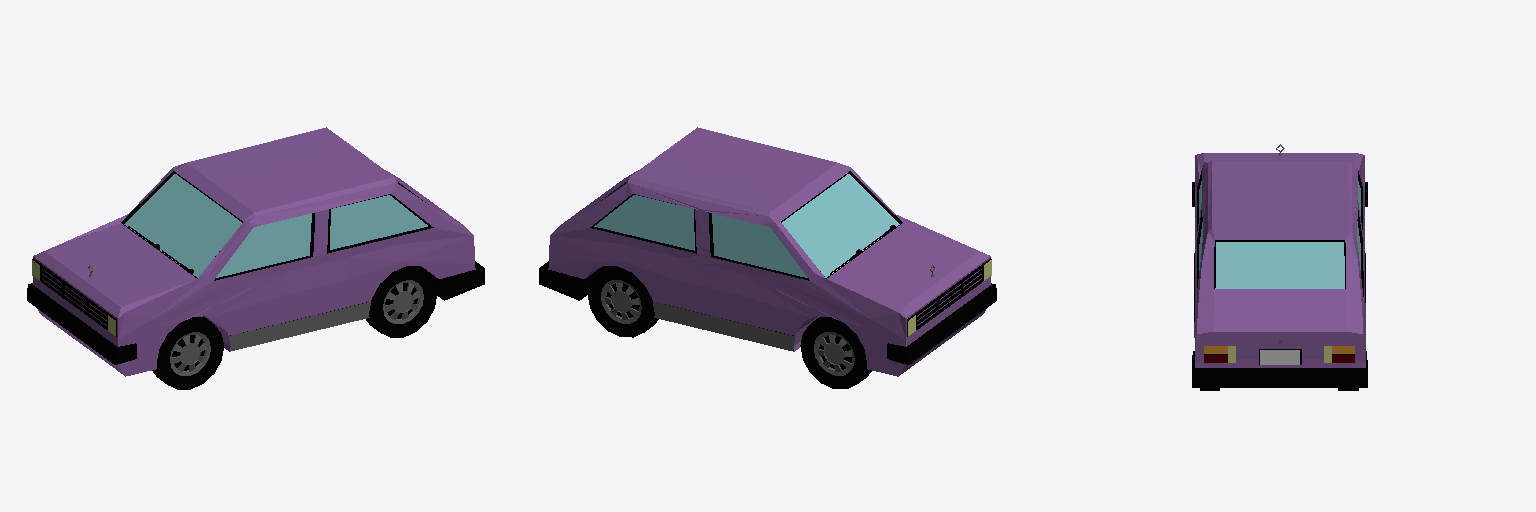
Rendered from car_purple.obj.
The picture shows the model from 3 angles: view 1: azimuth 30°, elevation 25°; view 2: azimuth 150°, elevation 25°; view 3: azimuth 270°, elevation 25°; orthographic projection.
Parts seen in each view (by area): view 1: car; view 2: car; view 3: car.
Boxes of the visible parts, x1=… form: car: x1=27, y1=127, x2=484, y2=389; car: x1=539, y1=127, x2=996, y2=388; car: x1=1192, y1=144, x2=1367, y2=390.
Bounding box in the file's own units: 20.62 × 8.35 × 8.49.